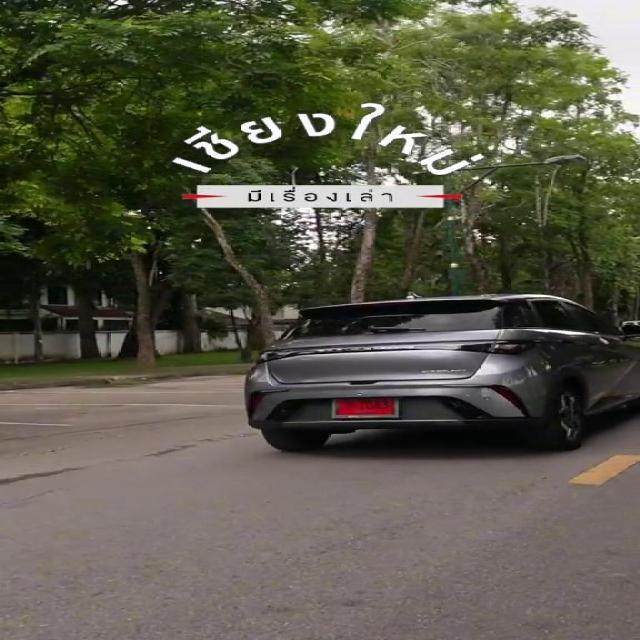Hatchback: (244, 294, 639, 451)
